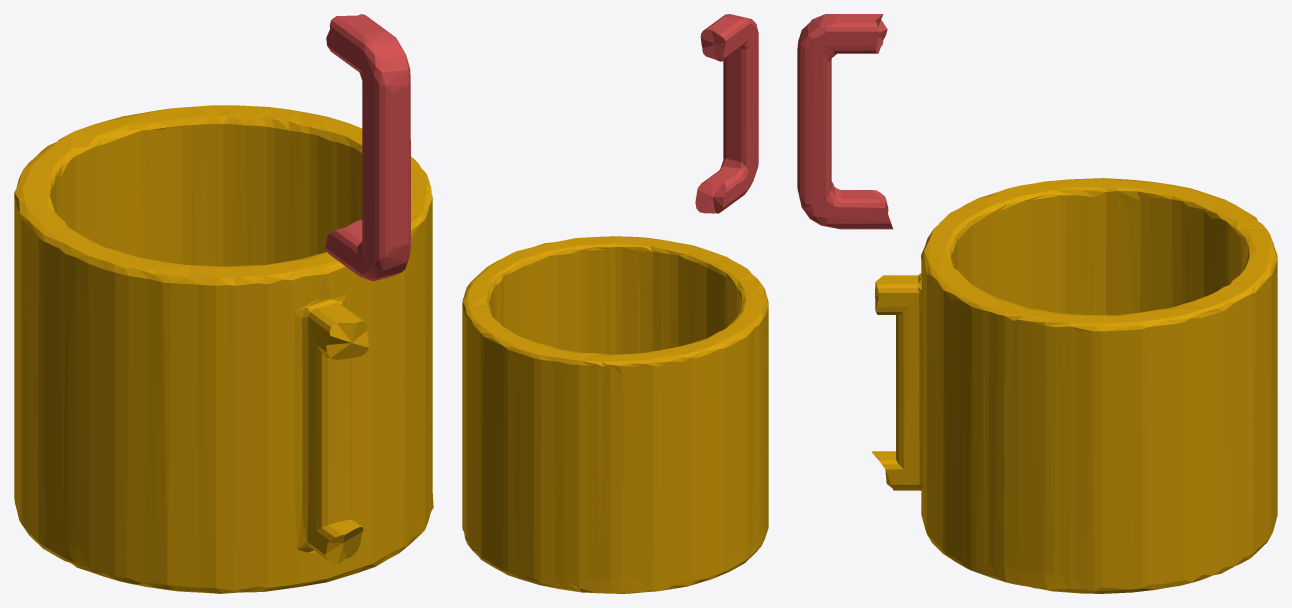
The model's file is fractured_72_2pcs_transformed.glb.
3 views of the same model, side by side, from view 1: azimuth 30°, elevation 25°; view 2: azimuth 150°, elevation 25°; view 3: azimuth 270°, elevation 25° (orthographic). The views are drawn at different scales.
Visible parts, largest first — view 1: piece_0.obj, piece_1.obj; view 2: piece_0.obj, piece_1.obj; view 3: piece_0.obj, piece_1.obj.
Boxes of the visible parts, x1,y1,x2,y2 form: piece_0.obj: (14,105,433,593); piece_1.obj: (325,14,410,281); piece_0.obj: (462,236,768,593); piece_1.obj: (695,14,758,213); piece_0.obj: (872,178,1277,593); piece_1.obj: (797,14,892,229).
Bounding box in the file's own units: 0.7417 × 1.15 × 1.
